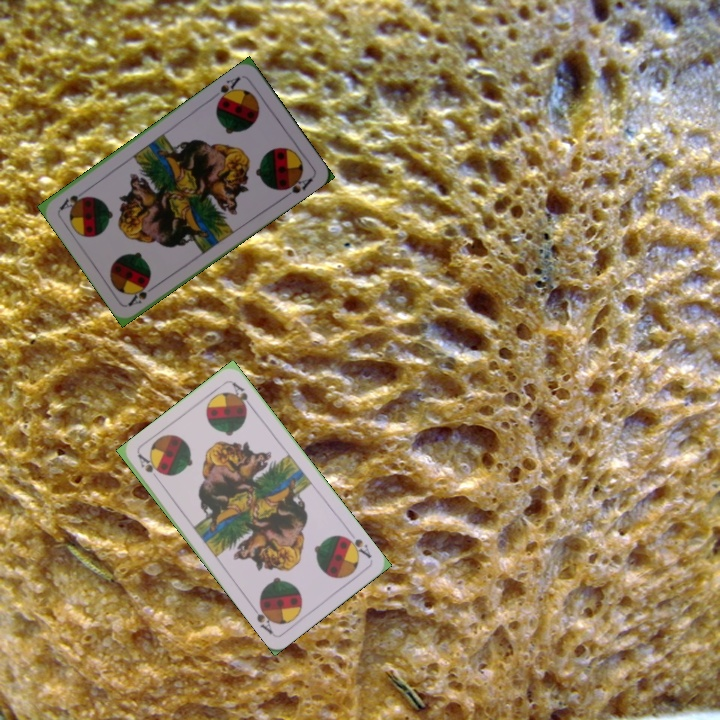SA: (124, 280, 160, 309), (134, 451, 163, 486), (213, 73, 243, 106), (340, 532, 374, 561)
